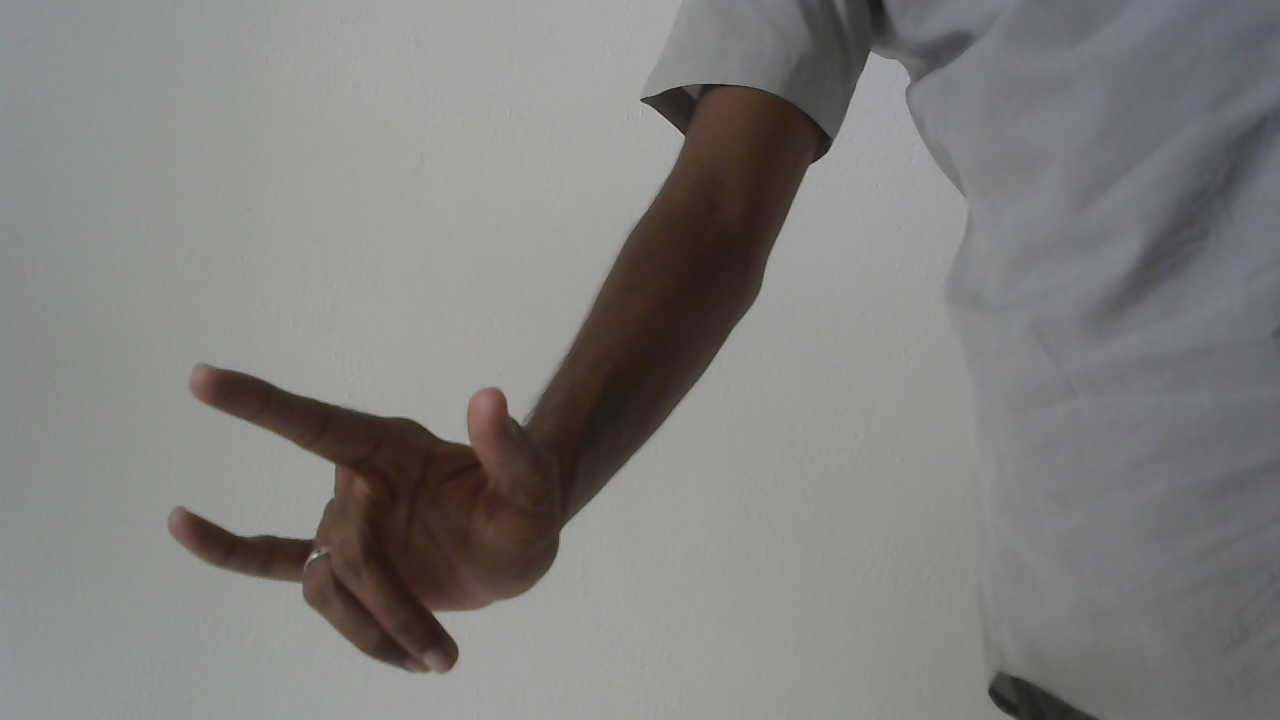iloveyou: (162, 356, 579, 692)
